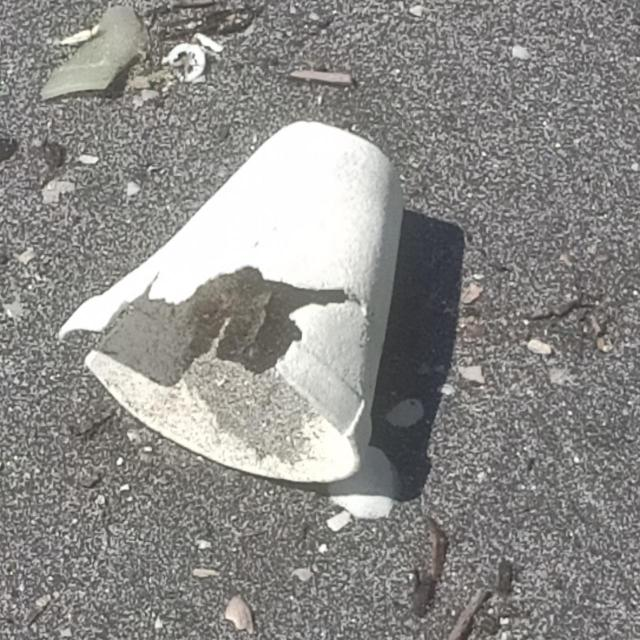styrofoam_waste: (60, 120, 406, 484)
